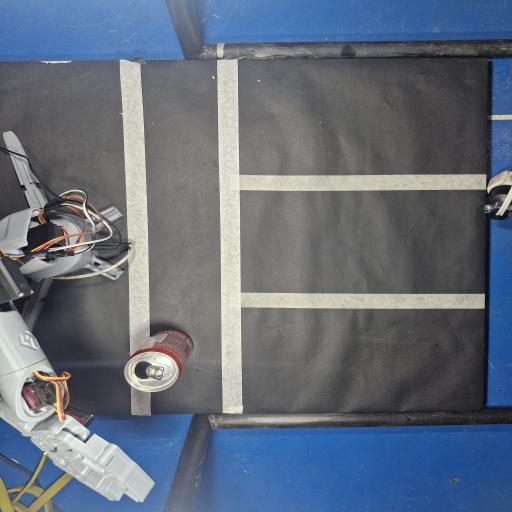lata: (125, 330, 193, 392)
